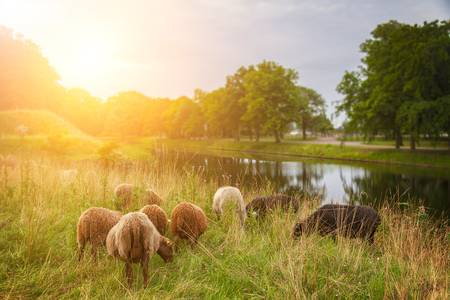sheep: (107, 211, 177, 278), (288, 197, 382, 246), (74, 205, 118, 265), (206, 184, 248, 234), (248, 189, 300, 226), (171, 200, 209, 245), (112, 181, 169, 211), (144, 205, 173, 230)
